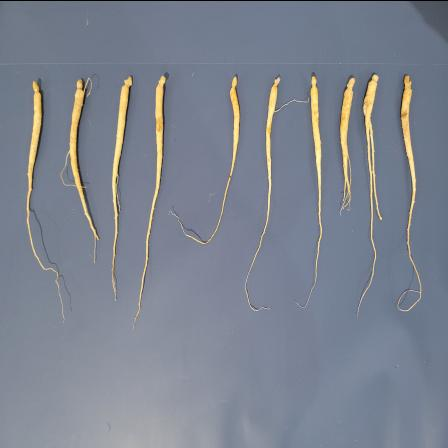Ginseng: (168, 71, 242, 245), (24, 74, 64, 324), (134, 69, 168, 330), (244, 72, 281, 310), (58, 75, 102, 261), (356, 69, 382, 321), (298, 66, 324, 310), (396, 69, 422, 312), (108, 71, 134, 304), (339, 69, 356, 217)
head: (75, 74, 86, 96), (402, 72, 412, 95), (368, 72, 379, 90), (344, 74, 356, 90), (32, 78, 42, 96), (121, 75, 133, 89), (156, 75, 166, 91), (230, 74, 238, 92), (310, 74, 318, 91), (271, 74, 280, 88)
